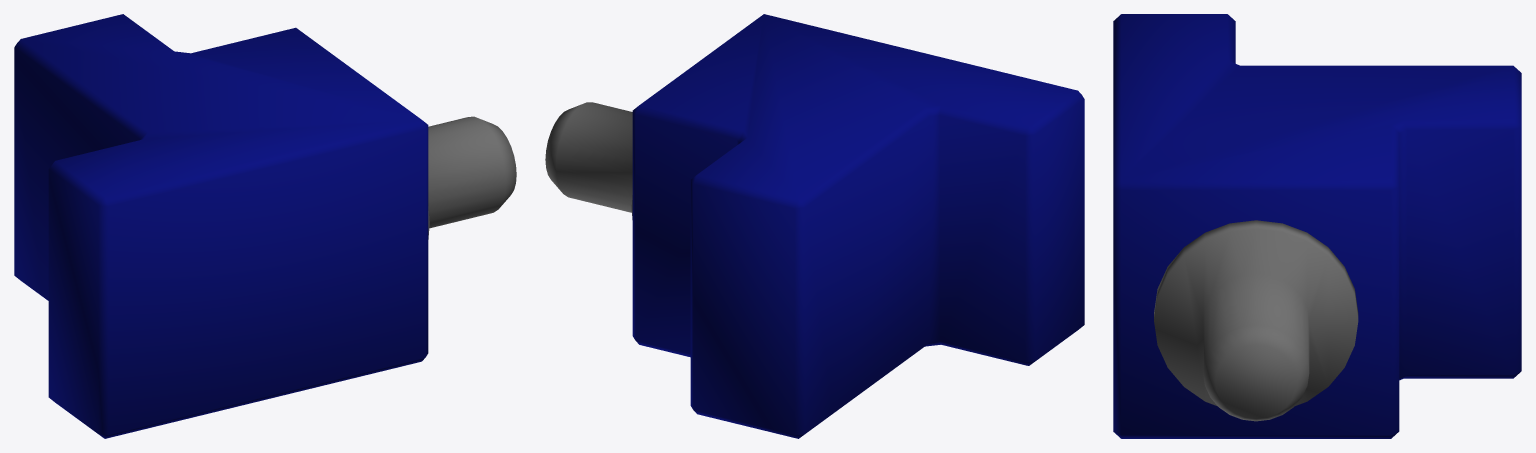
Rendered from sensor_blue.dae.
The picture shows the model from 3 angles, left to right: view 1: azimuth 30°, elevation 25°; view 2: azimuth 150°, elevation 25°; view 3: azimuth 270°, elevation 25°; orthographic projection. The views are drawn at different scales.
Visible parts, largest first — view 1: sensor_peg; view 2: sensor_peg; view 3: sensor_peg.
Boxes of the visible parts, x1=… form: sensor_peg: x1=14, y1=14, x2=516, y2=438; sensor_peg: x1=545, y1=14, x2=1084, y2=438; sensor_peg: x1=1113, y1=14, x2=1521, y2=438.
Bounding box in the file's own units: 0.14 × 0.1 × 0.07.
